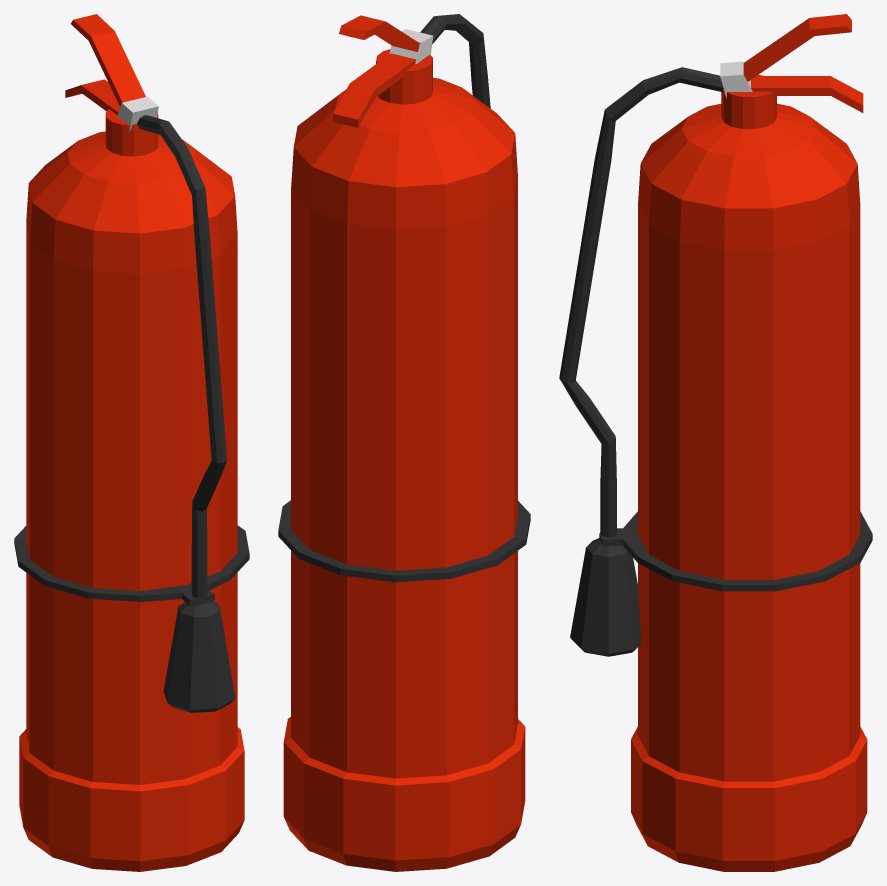
The picture shows the model from 3 angles, left to right: view 1: azimuth 30°, elevation 25°; view 2: azimuth 150°, elevation 25°; view 3: azimuth 270°, elevation 25°; orthographic projection. The views are drawn at different scales.
Visible parts, largest first — view 1: Куб.002; view 2: Куб.002; view 3: Куб.002.
Boxes of the visible parts, <box> form: Куб.002: <box>14,14,249,871</box>; Куб.002: <box>278,14,530,871</box>; Куб.002: <box>559,14,872,871</box>.
Bounding box in the file's own units: 78.22 × 289 × 102.
